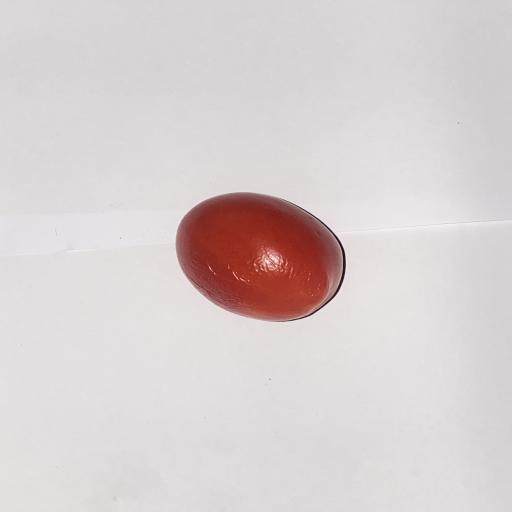spoiled: (176, 193, 345, 321)
